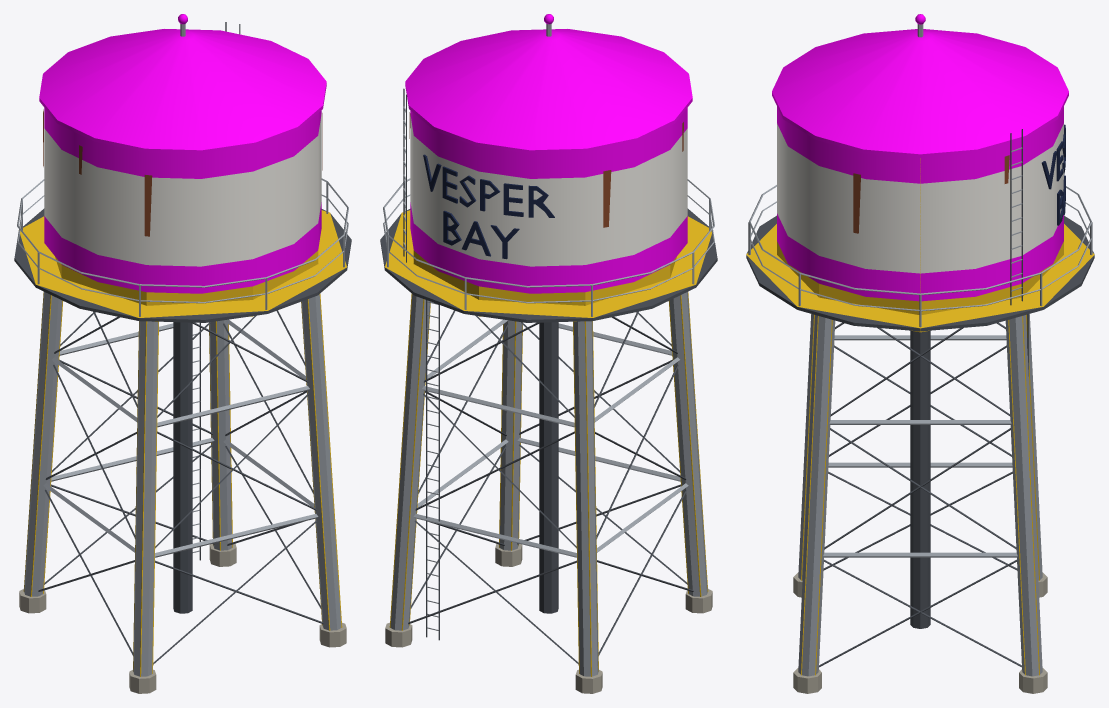
File: lm_water_tower.glb
The picture shows the model from 3 angles, left to right: view 1: azimuth 30°, elevation 25°; view 2: azimuth 150°, elevation 25°; view 3: azimuth 270°, elevation 25°; orthographic projection. The views are drawn at different scales.
Visible parts, largest first — view 1: lm_water_tower__shell, lm_water_tower__col; view 2: lm_water_tower__shell, lm_water_tower__col; view 3: lm_water_tower__shell, lm_water_tower__col.
Boxes of the visible parts, x1=… form: lm_water_tower__shell: x1=14, y1=14, x2=351, y2=693; lm_water_tower__col: x1=20, y1=210, x2=346, y2=676; lm_water_tower__shell: x1=380, y1=14, x2=717, y2=693; lm_water_tower__col: x1=385, y1=210, x2=711, y2=676; lm_water_tower__shell: x1=746, y1=14, x2=1094, y2=693; lm_water_tower__col: x1=746, y1=158, x2=1094, y2=675.
Bounding box in the file's own units: 10.2 × 20.23 × 10.2.
Materials: 1 (1 with a texture image).
